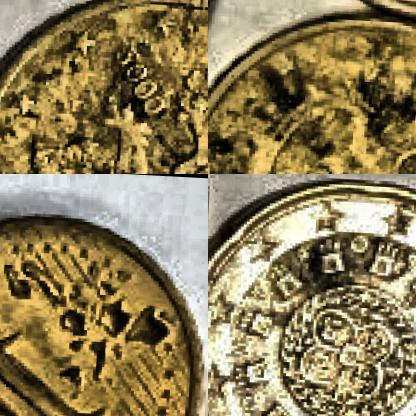coin: (208, 174, 415, 415), (0, 207, 207, 415), (0, 0, 207, 173), (208, 3, 415, 173)
